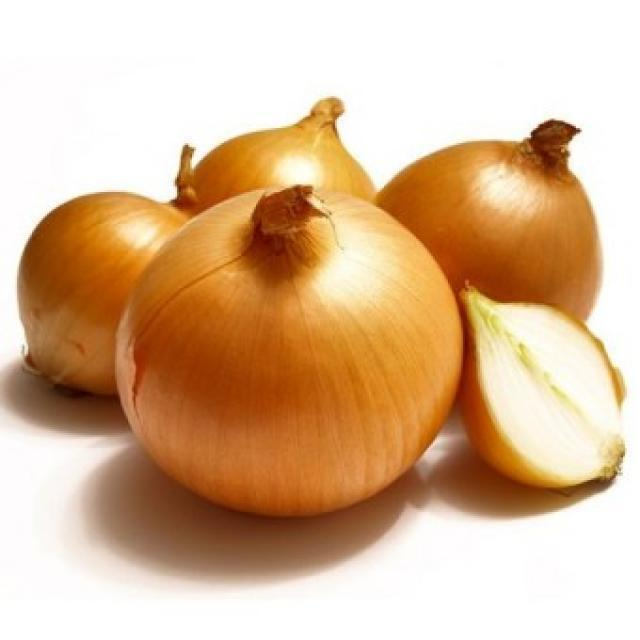onion: (112, 184, 469, 520), (372, 120, 604, 325), (17, 192, 191, 401), (176, 97, 374, 215)
